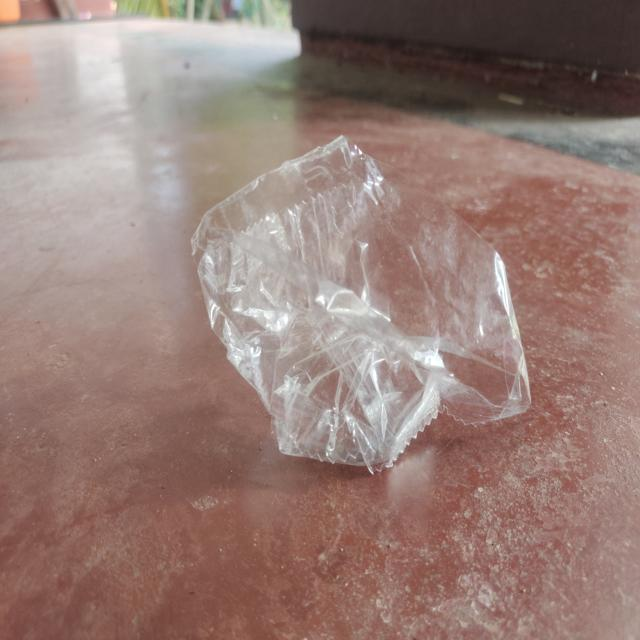plastic: (193, 134, 533, 478)
